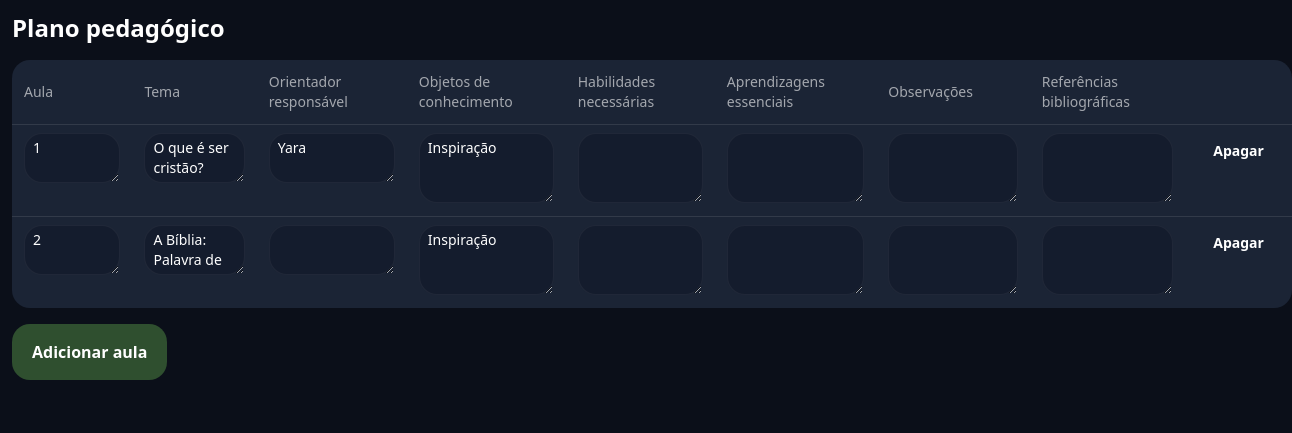
Test case: PlanPage — curador edita como numa planilha › falha ao salvar mostra alerta
In the text box named "Observações da aula 1": (953, 168) [888,133,1018,203], type "Nota"
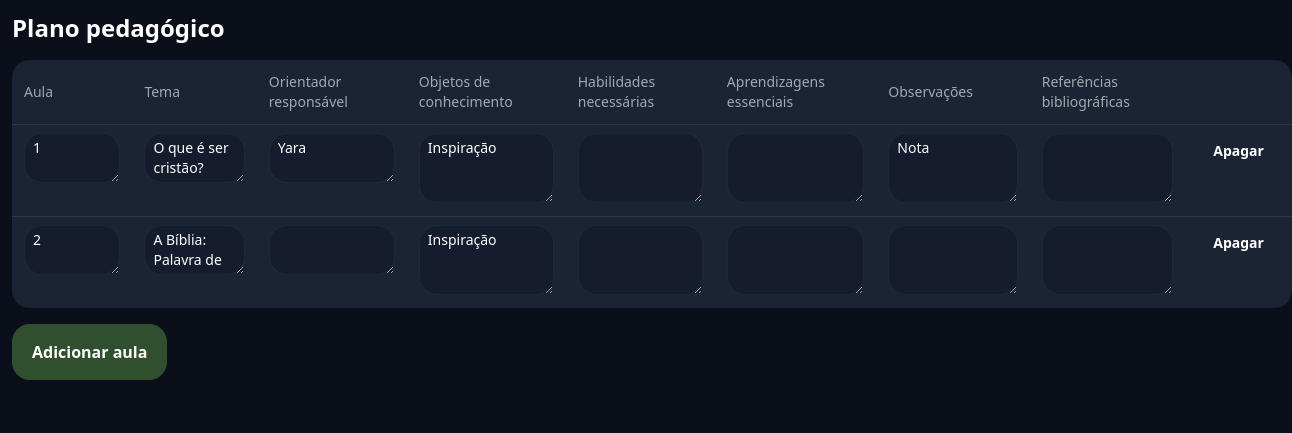
Leave the text box named "Observações da aula 1", box [888,133,1018,203]
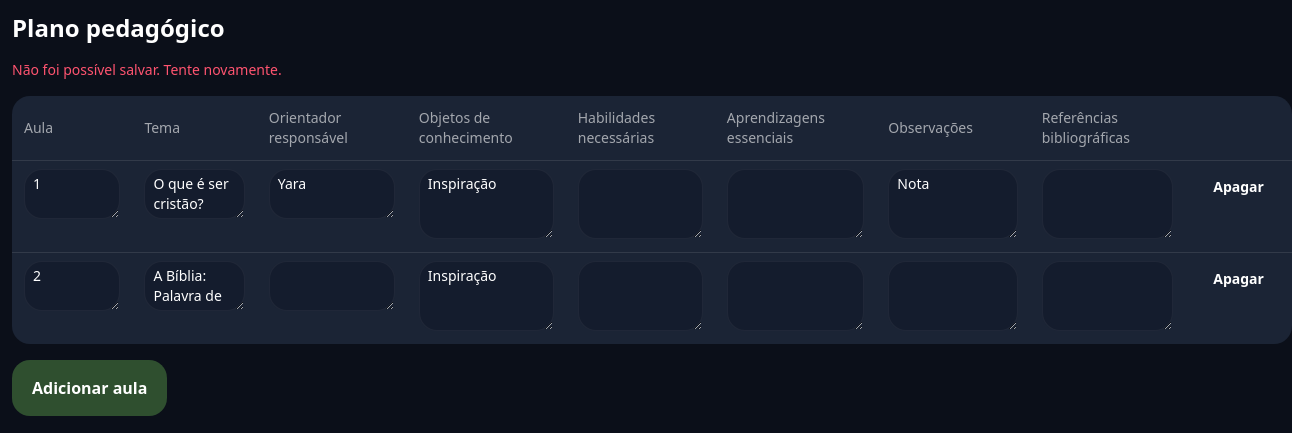
Now the message reads "Não foi possível salvar. Tente novamente.", box [12,60,282,79]
